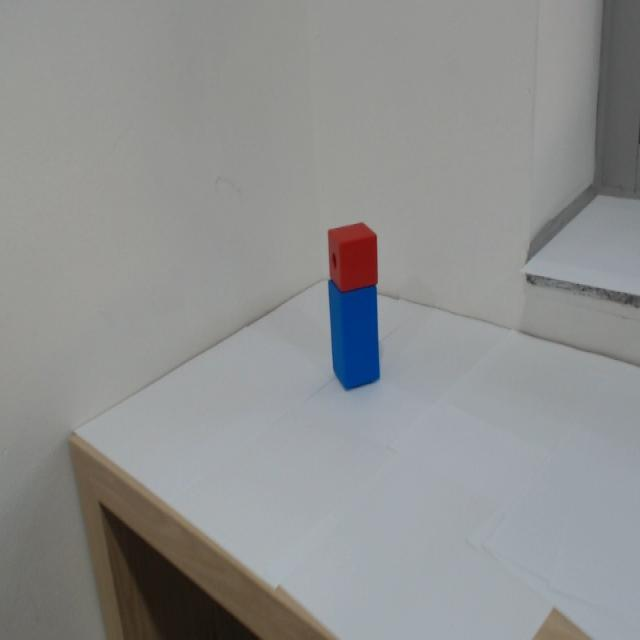cube: (322, 220, 388, 291)
